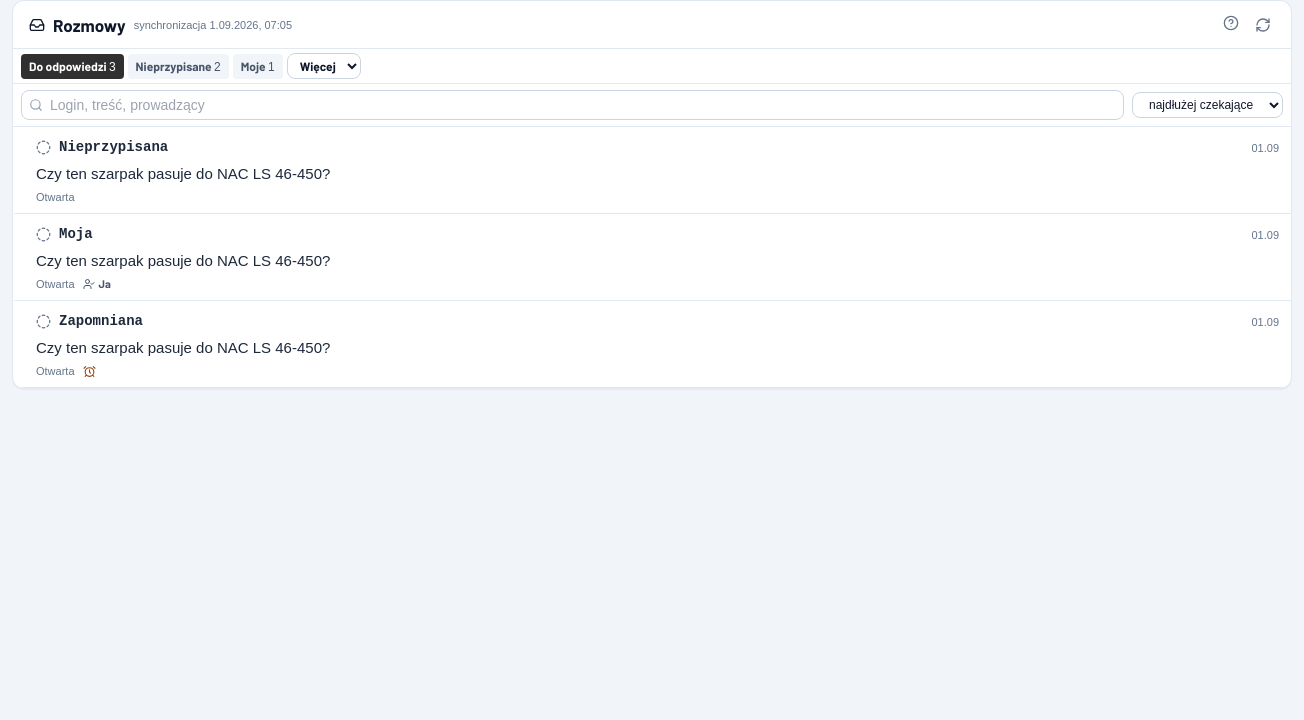
Test: Kolejka › zamknięta rozmowa schodzi z kolejki roboczej, ale zostaje we WSZYSTKICH
Click the button "Nieprzypisane 2" at (178, 66), box x1=128 y1=54 x2=229 y2=78
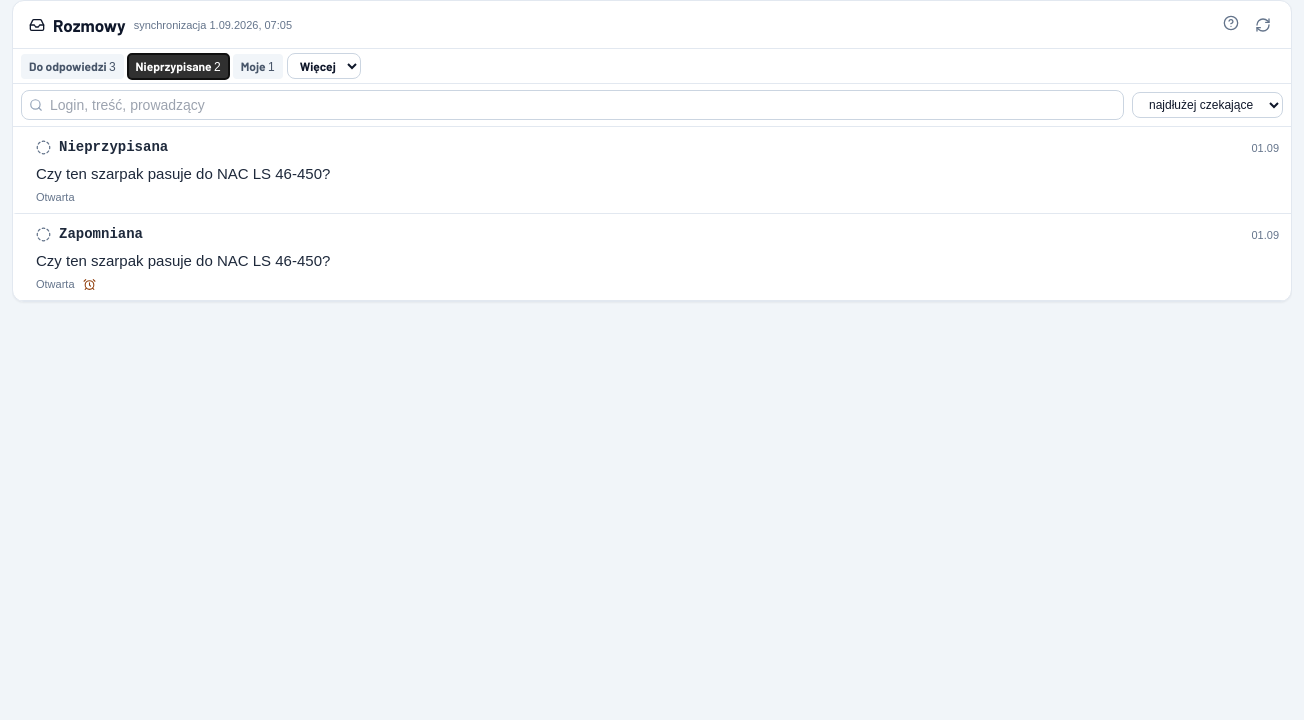
Expected: the text "Sprawa z archiwum" is not shown
Type keys "6"
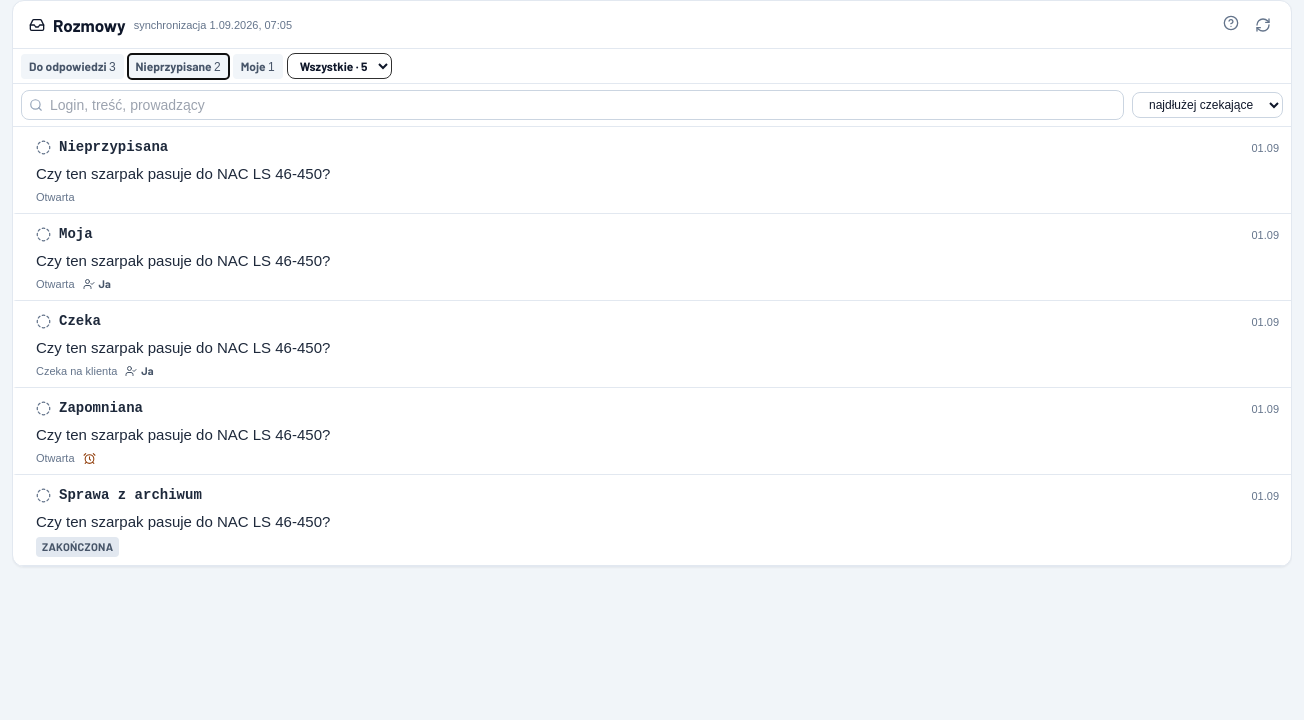
Result: the text "Sprawa z archiwum" is shown at x1=59 y1=485 x2=202 y2=505
